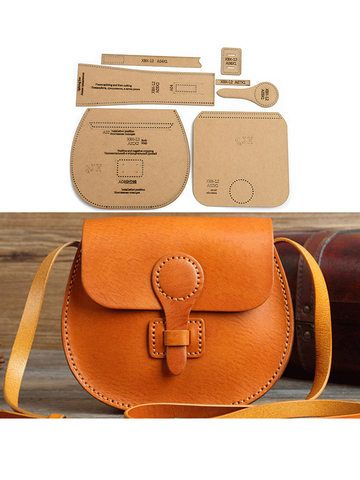cuero: (3, 215, 360, 418)
